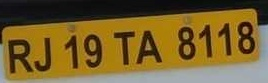character: (136, 28, 163, 64), (7, 37, 33, 74), (112, 29, 135, 65), (82, 32, 102, 67), (33, 36, 51, 73), (177, 25, 196, 60), (236, 20, 255, 54), (198, 23, 213, 58), (217, 21, 232, 56), (64, 33, 78, 69)
